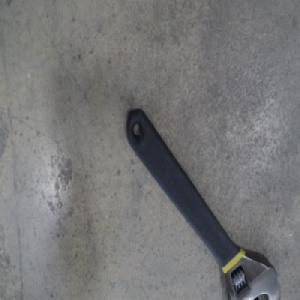AdjustableWrench: (124, 108, 279, 299)
